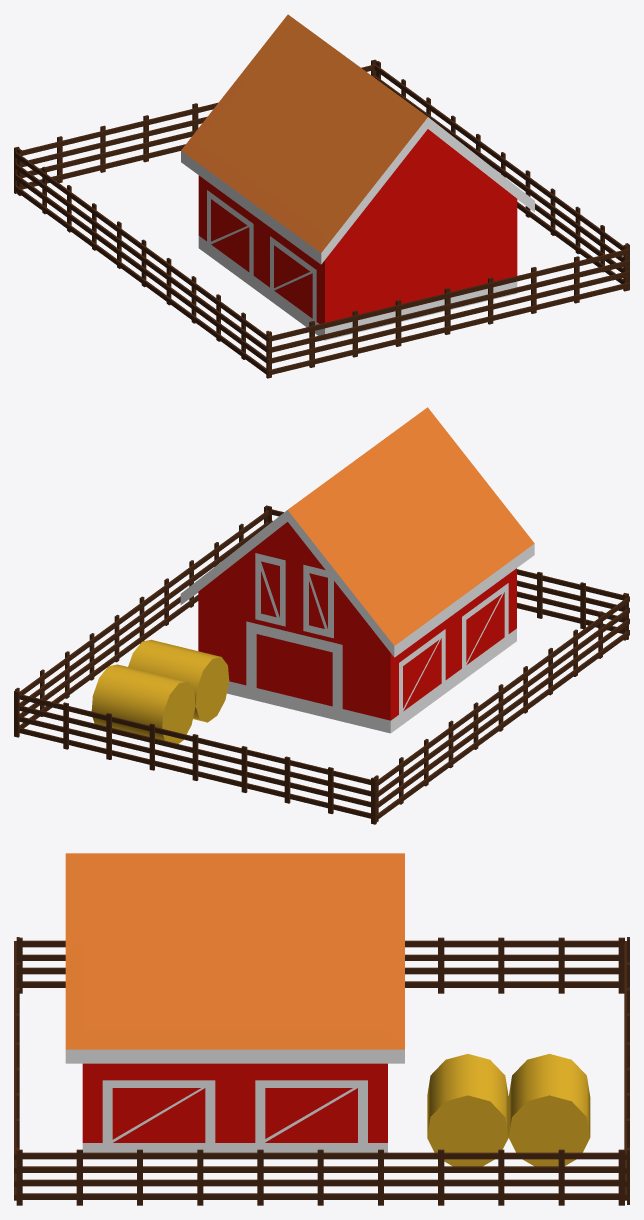
Rendered from farm.fbx.
3 views of the same model, one above another, from view 1: azimuth 30°, elevation 25°; view 2: azimuth 150°, elevation 25°; view 3: azimuth 270°, elevation 25° (orthographic). The views are drawn at different scales.
Visible parts, largest first — view 1: house.001, fence; view 2: house.001, fence, hay; view 3: house.001, fence, hay.
Boxes of the visible parts, x1,y1,x2,y2 form: house.001: [181, 14, 534, 340]; fence: [14, 59, 629, 378]; house.001: [180, 407, 534, 733]; fence: [14, 505, 629, 824]; hay: [91, 639, 229, 743]; house.001: [65, 853, 404, 1152]; fence: [14, 937, 629, 1205]; hay: [427, 1054, 590, 1166].
Size of the model in its own units: 133 by 71.83 by 161.
